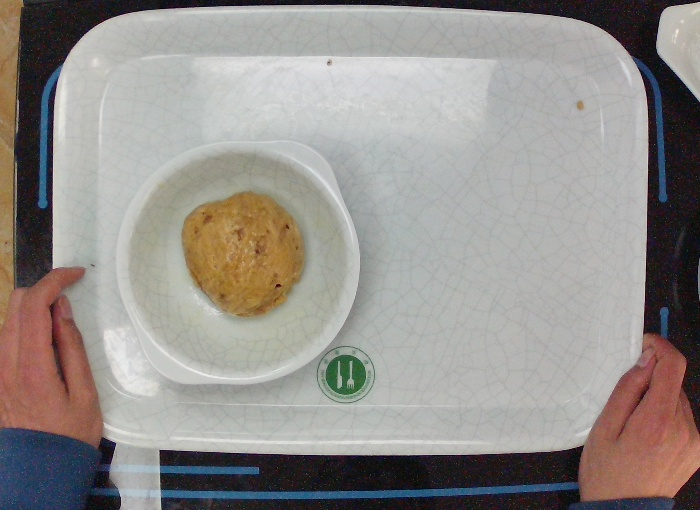JYsf-Shuang_Er_Wan: (108, 132, 365, 391)
